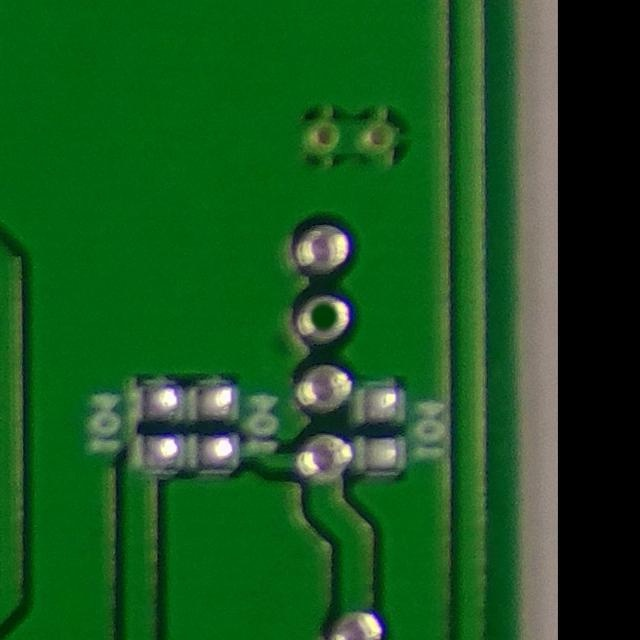missing_hole: (282, 287, 359, 353)
